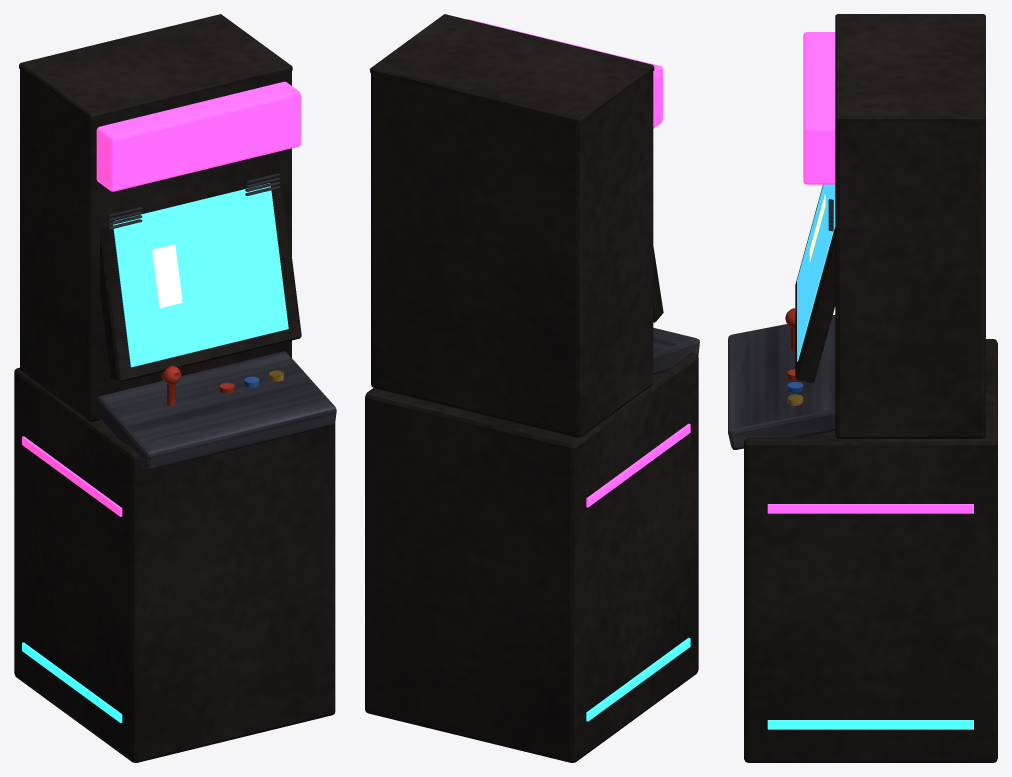
File: arcade.glb
The picture shows the model from 3 angles, left to right: view 1: azimuth 30°, elevation 25°; view 2: azimuth 150°, elevation 25°; view 3: azimuth 270°, elevation 25°; orthographic projection. The views are drawn at different scales.
Visible parts, largest first — view 1: arcade; view 2: arcade; view 3: arcade.
Part boxes in pixels (x1,y1,x2,y2): arcade: (14, 14, 336, 762); arcade: (365, 14, 699, 762); arcade: (728, 14, 997, 762).
Size of the model in its own units: 0.632 by 1.8 by 0.6798.
Materials: 10 (5 with a texture image).
